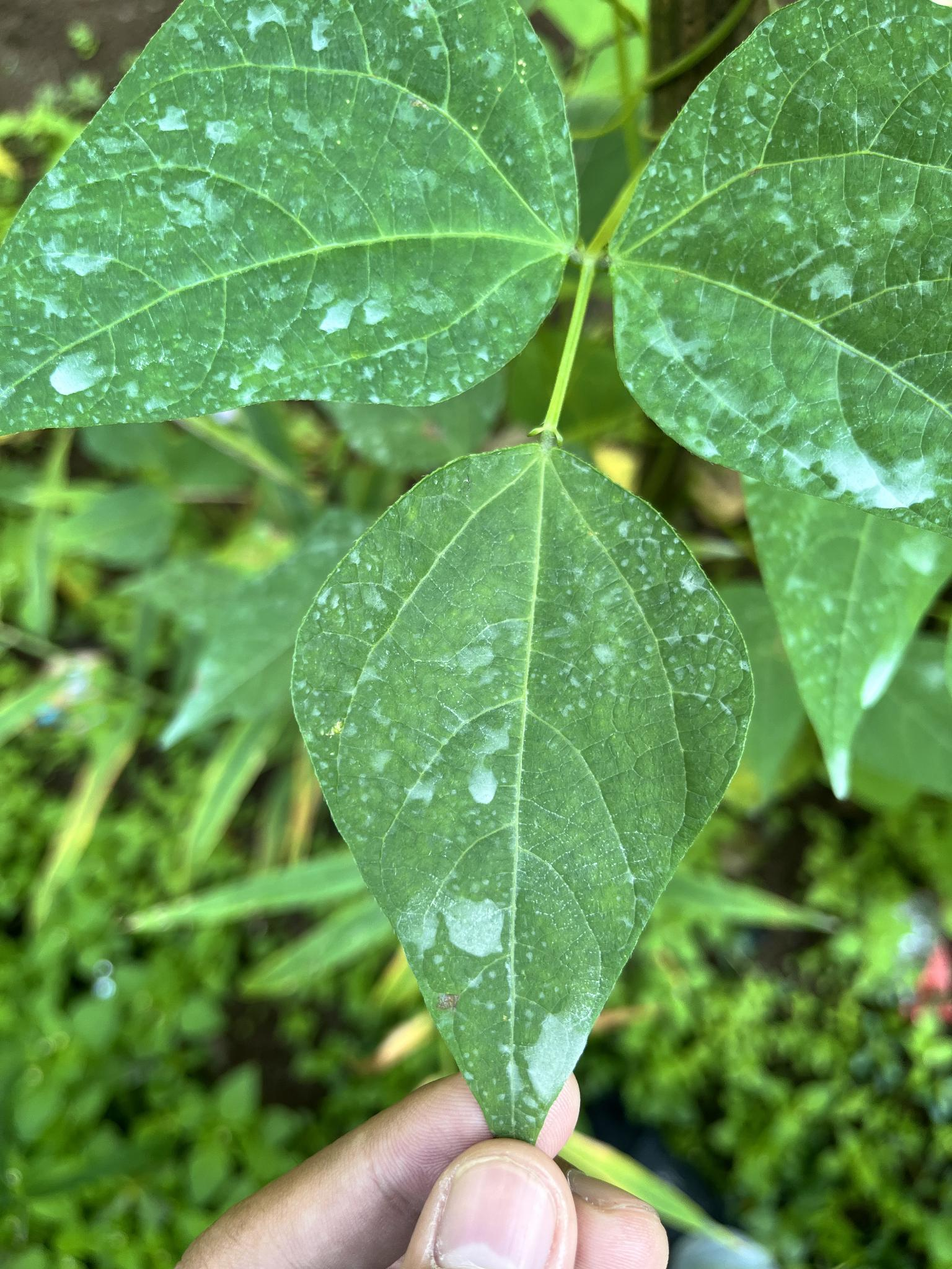embun tepung: (0, 0, 585, 427), (515, 982, 610, 1109)
